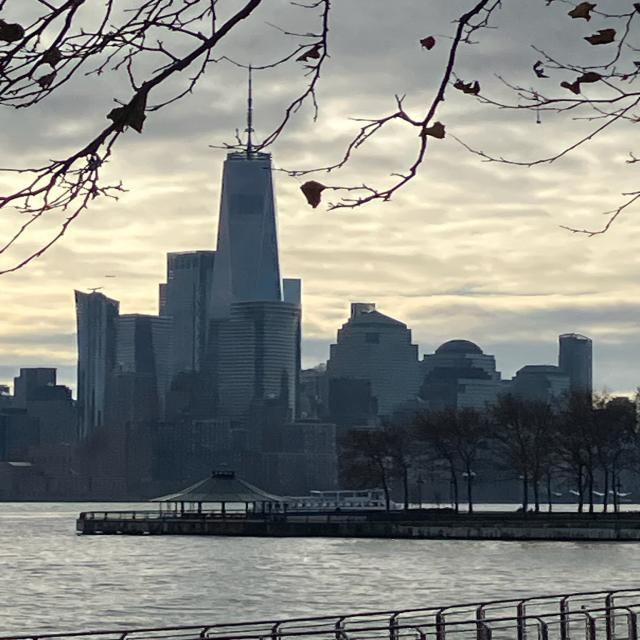WTC: (209, 65, 285, 300)
